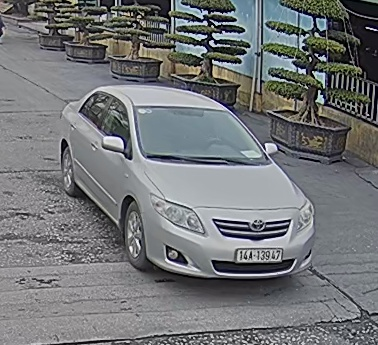vehicle plate: (234, 246, 286, 262)
